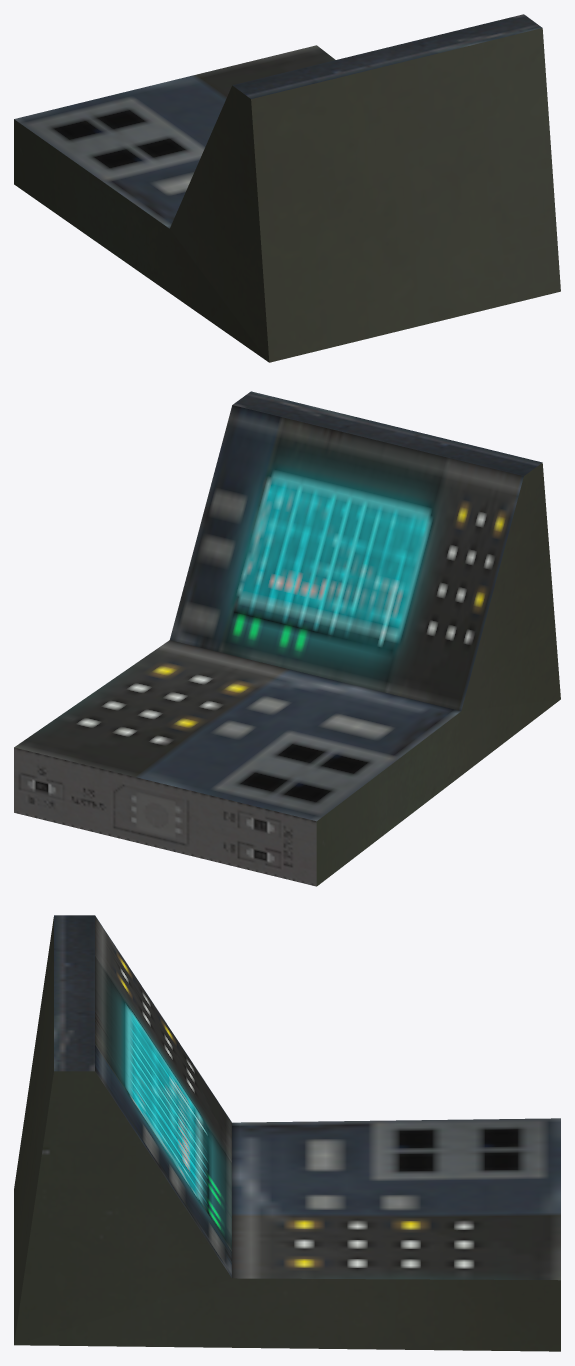
The model's file is Controller_03.fbx.
3 views of the same model, one above another, from view 1: azimuth 30°, elevation 25°; view 2: azimuth 150°, elevation 25°; view 3: azimuth 270°, elevation 25° (orthographic). The views are drawn at different scales.
Visible parts, largest first — view 1: Controller_03; view 2: Controller_03; view 3: Controller_03.
Boxes of the visible parts, left/top/right/bottom form: Controller_03: left=14, top=14, right=560, bottom=362; Controller_03: left=14, top=391, right=560, bottom=886; Controller_03: left=14, top=915, right=560, bottom=1351.
Bounding box in the file's own units: 19.34 × 15.47 × 27.63.
